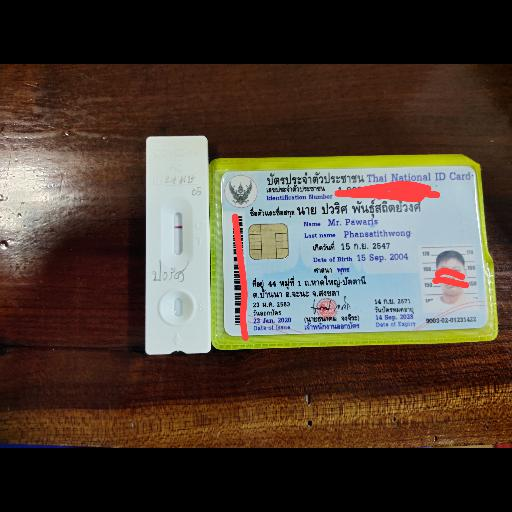Neg: (146, 136, 210, 352)
